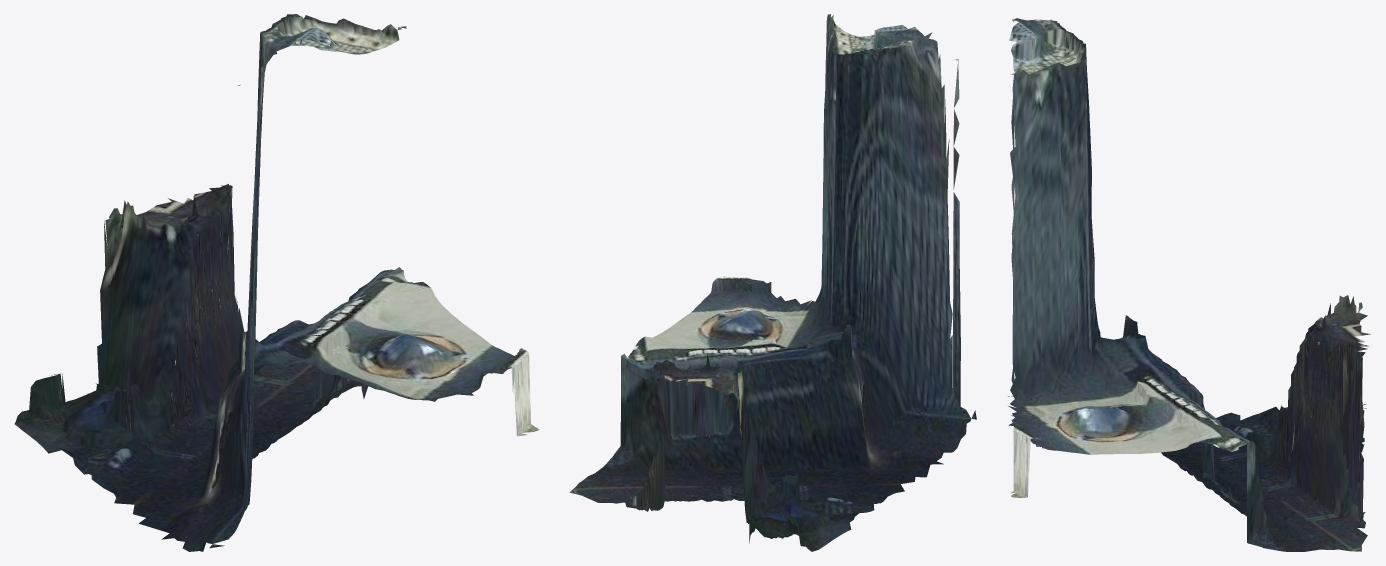
Rendered from Tile_003_001_L14_31411.glb.
3 views of the same model, side by side, from view 1: azimuth 30°, elevation 25°; view 2: azimuth 150°, elevation 25°; view 3: azimuth 270°, elevation 25° (orthographic). The views are drawn at different scales.
Parts seen in each view (by area): view 1: rtc; view 2: rtc; view 3: rtc.
Boxes of the visible parts, <box> form: rtc: <box>14,14,539,551</box>; rtc: <box>569,14,976,551</box>; rtc: <box>1008,18,1370,551</box>.
Bounding box in the file's own units: 56.77 × 85.49 × 64.38.
Materials: 1 (1 with a texture image).
